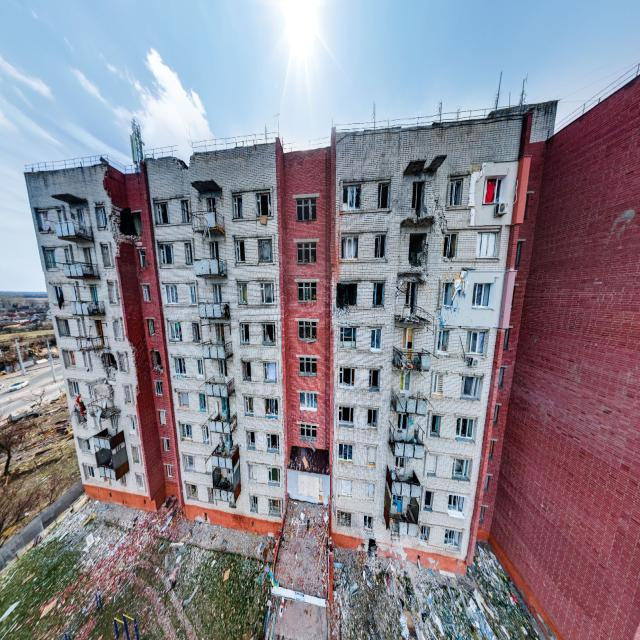building: (329, 99, 556, 578), (142, 136, 286, 534), (23, 153, 182, 513)
roof: (20, 76, 638, 636)
